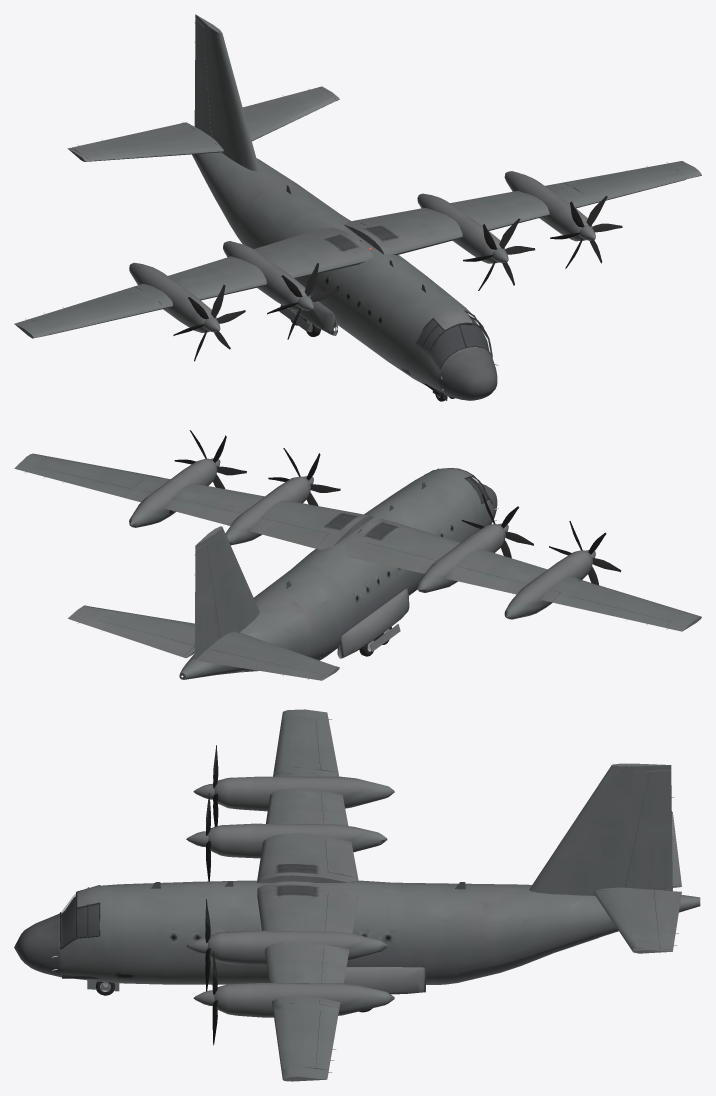
File: military-transport_card.glb
The picture shows the model from 3 angles, top to bottom: view 1: azimuth 30°, elevation 25°; view 2: azimuth 150°, elevation 25°; view 3: azimuth 270°, elevation 25°; orthographic projection. The views are drawn at different scales.
Parts seen in each view (by area): view 1: wings_tail, fuselage, nacelles_R, nacelles_L, interior, flight_deck_glass, rudder_mesh, flap_R_mesh, propeller_L_outer_mesh, propeller_L_inner_mesh, propeller_R_outer_mesh, propeller_R_inner_mesh (+4 smaller); view 2: wings_tail, fuselage, nacelles_R, nacelles_L, flap_R_mesh, flap_L_mesh, rudder_mesh, sponsons, elevator_L_mesh, elevator_R_mesh, aileron_R_mesh, aileron_L_mesh (+4 smaller); view 3: fuselage, wings_tail, nacelles_L, nacelles_R, rudder_mesh, flap_L_mesh, sponsons, flap_R_mesh, interior, elevator_L_mesh, flight_deck_glass, ramp_mesh (+5 smaller).
Boxes of the visible parts, bbox=[...] form: wings_tail: bbox=[14, 14, 701, 338]; fuselage: bbox=[181, 122, 497, 400]; nacelles_R: bbox=[129, 241, 310, 332]; nacelles_L: bbox=[417, 171, 592, 263]; interior: bbox=[417, 313, 489, 395]; flight_deck_glass: bbox=[418, 313, 490, 366]; rudder_mesh: bbox=[194, 19, 211, 136]; flap_R_mesh: bbox=[134, 230, 328, 289]; propeller_L_outer_mesh: bbox=[550, 196, 622, 268]; propeller_L_inner_mesh: bbox=[463, 218, 535, 290]; propeller_R_outer_mesh: bbox=[173, 285, 245, 361]; propeller_R_inner_mesh: bbox=[267, 263, 339, 339]; wings_tail: bbox=[14, 453, 701, 680]; fuselage: bbox=[179, 468, 497, 679]; nacelles_R: bbox=[417, 524, 592, 619]; nacelles_L: bbox=[129, 458, 310, 545]; flap_R_mesh: bbox=[353, 543, 560, 602]; flap_L_mesh: bbox=[134, 491, 328, 548]; rudder_mesh: bbox=[194, 544, 219, 656]; sponsons: bbox=[337, 588, 409, 658]; elevator_L_mesh: bbox=[71, 614, 194, 656]; elevator_R_mesh: bbox=[199, 650, 323, 679]; aileron_R_mesh: bbox=[562, 596, 670, 627]; aileron_L_mesh: bbox=[30, 467, 131, 497]; fuselage: bbox=[14, 880, 700, 984]; wings_tail: bbox=[257, 709, 681, 1081]; nacelles_L: bbox=[207, 930, 394, 1017]; nacelles_R: bbox=[208, 776, 394, 858]; rudder_mesh: bbox=[625, 770, 672, 890]; flap_L_mesh: bbox=[319, 892, 357, 1007]; sponsons: bbox=[344, 967, 425, 994]; flap_R_mesh: bbox=[319, 774, 357, 877]; interior: bbox=[61, 896, 99, 978]; elevator_L_mesh: bbox=[654, 891, 681, 949]; flight_deck_glass: bbox=[61, 894, 99, 946]; ramp_mesh: bbox=[458, 934, 599, 982].
Size of the model in its own units: 38 by 10.94 by 30.07.
Materials: 23 (1 with a texture image).
